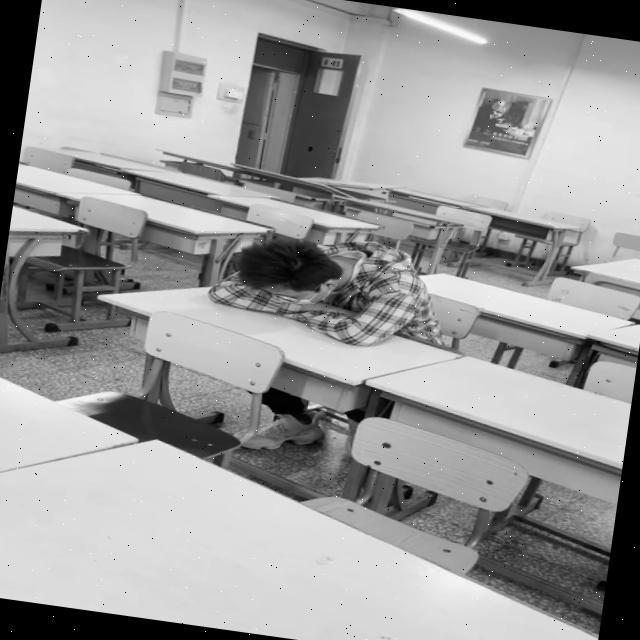sleep: (206, 230, 437, 351)
